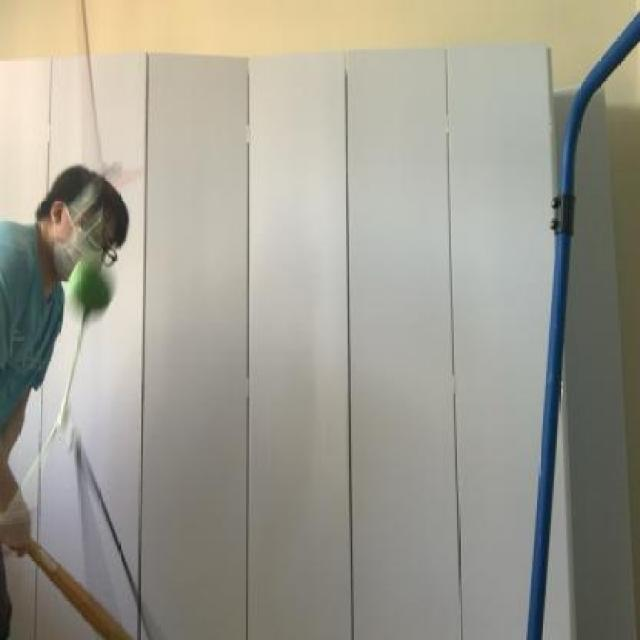baseball: (54, 248, 126, 327)
